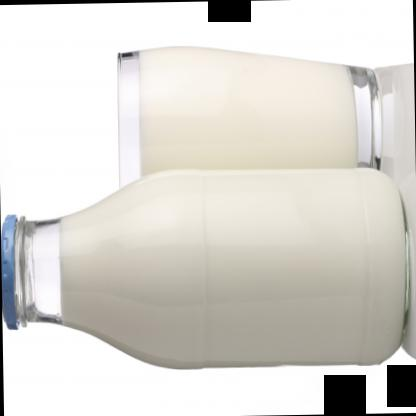milk: (0, 169, 411, 374), (116, 36, 388, 212)
